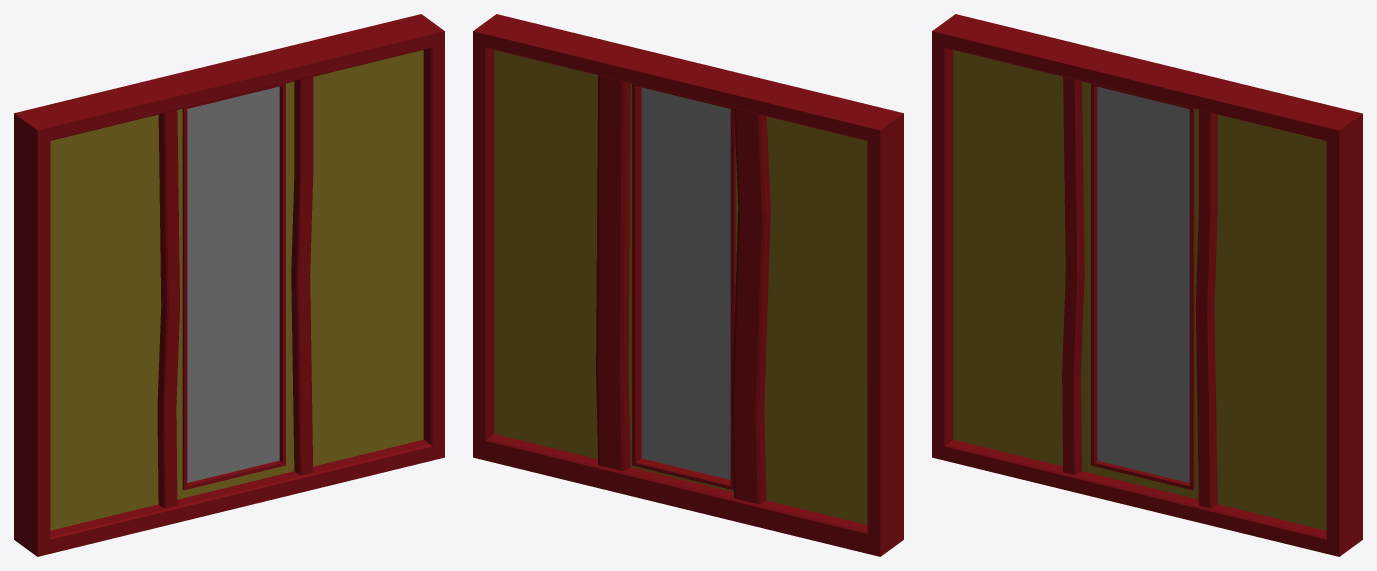
File: SM_MH_01_Plaster_Wall_Window_03.fbx
3 renders of one model, left to right at view 1: azimuth 30°, elevation 25°; view 2: azimuth 150°, elevation 25°; view 3: azimuth 330°, elevation 25°, orthographic.
Visible parts, largest first — view 1: SM_MH_01_Plaster_Wall_Window_03_LOD0, SM_MH_01_Plaster_Wall_Window_03W_LOD; view 2: SM_MH_01_Plaster_Wall_Window_03_LOD0, SM_MH_01_Plaster_Wall_Window_03W_LOD; view 3: SM_MH_01_Plaster_Wall_Window_03_LOD0, SM_MH_01_Plaster_Wall_Window_03W_LOD.
Part boxes in pixels (x1,y1,x2,y2): SM_MH_01_Plaster_Wall_Window_03_LOD0: (14,14,444,556); SM_MH_01_Plaster_Wall_Window_03W_LOD: (187,86,279,482); SM_MH_01_Plaster_Wall_Window_03_LOD0: (473,14,903,556); SM_MH_01_Plaster_Wall_Window_03W_LOD: (641,87,730,479); SM_MH_01_Plaster_Wall_Window_03_LOD0: (932,14,1362,556); SM_MH_01_Plaster_Wall_Window_03W_LOD: (1097,86,1189,482).
Size of what is drawn, in the model's own units: 300 by 300 by 30.
